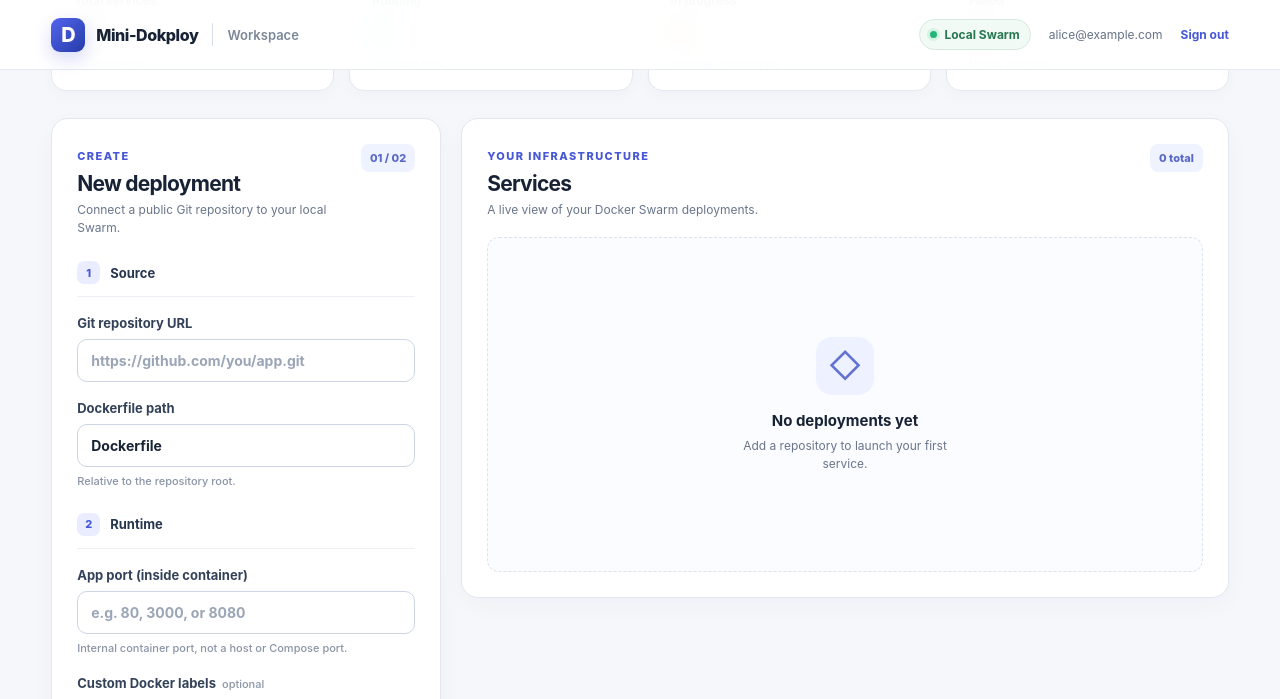
Scenario: Mini-Dokploy page › shows malformed labels without submitting a deployment
(page scrolled)
Type "https://github.com/example/app.git" into the field labelled "Git repository URL" at [246, 360], box [77,339,415,382]
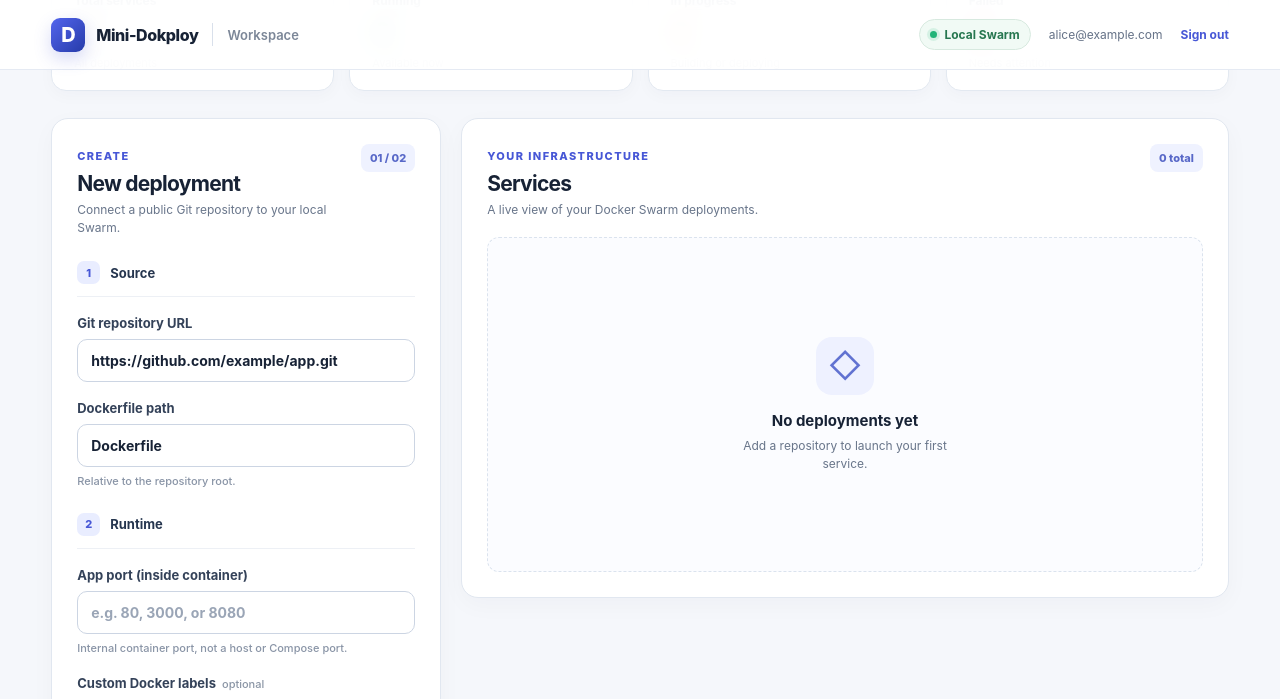
Type "80" into the field labelled "App port (inside container)" at [246, 612], box [77,591,415,634]
(page scrolled)
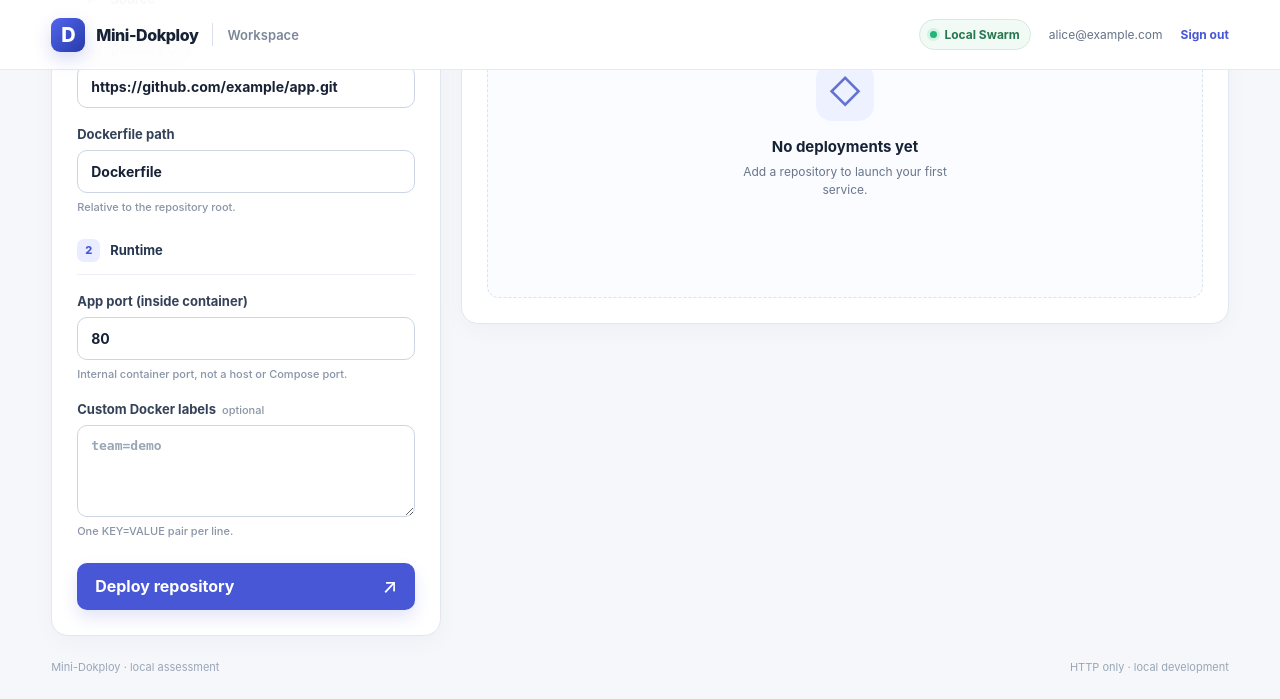
Type "not-a-pair" into the text box labelled "Custom Docker labels optional One KEY=VALUE pair per line." at [246, 471], box [77,425,415,517]
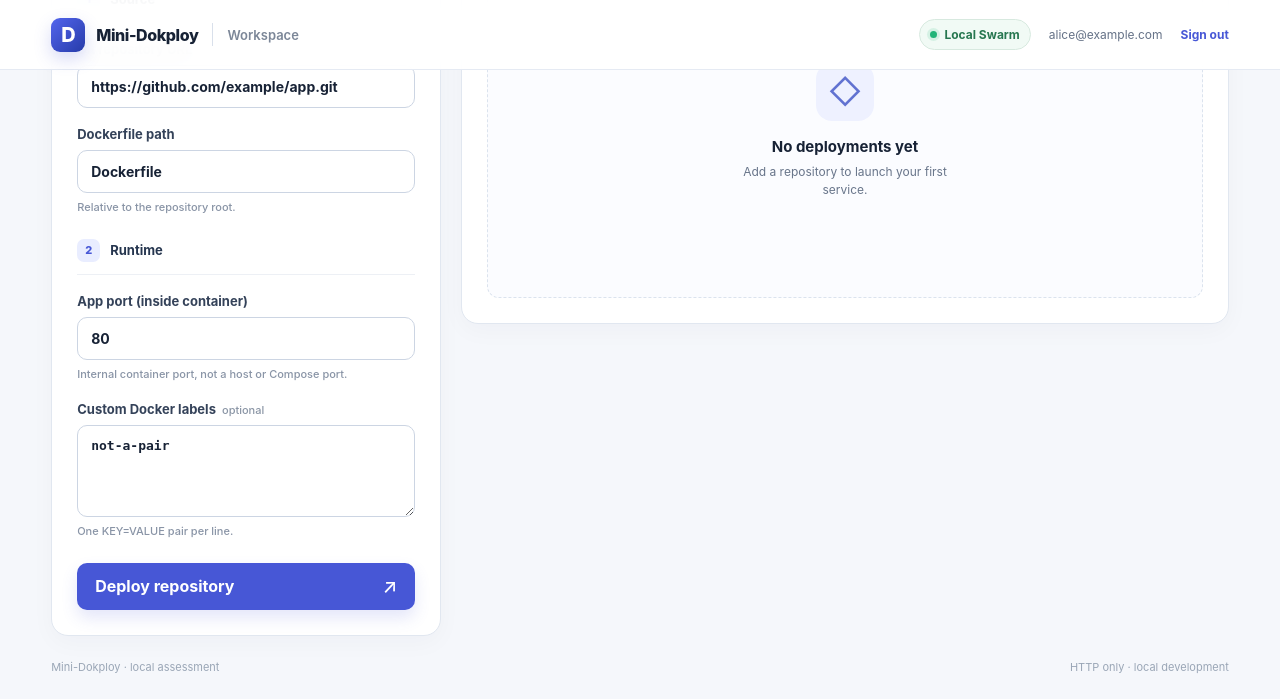
Click the button "Deploy repository ↗" at [165, 586], box [77,563,415,610]
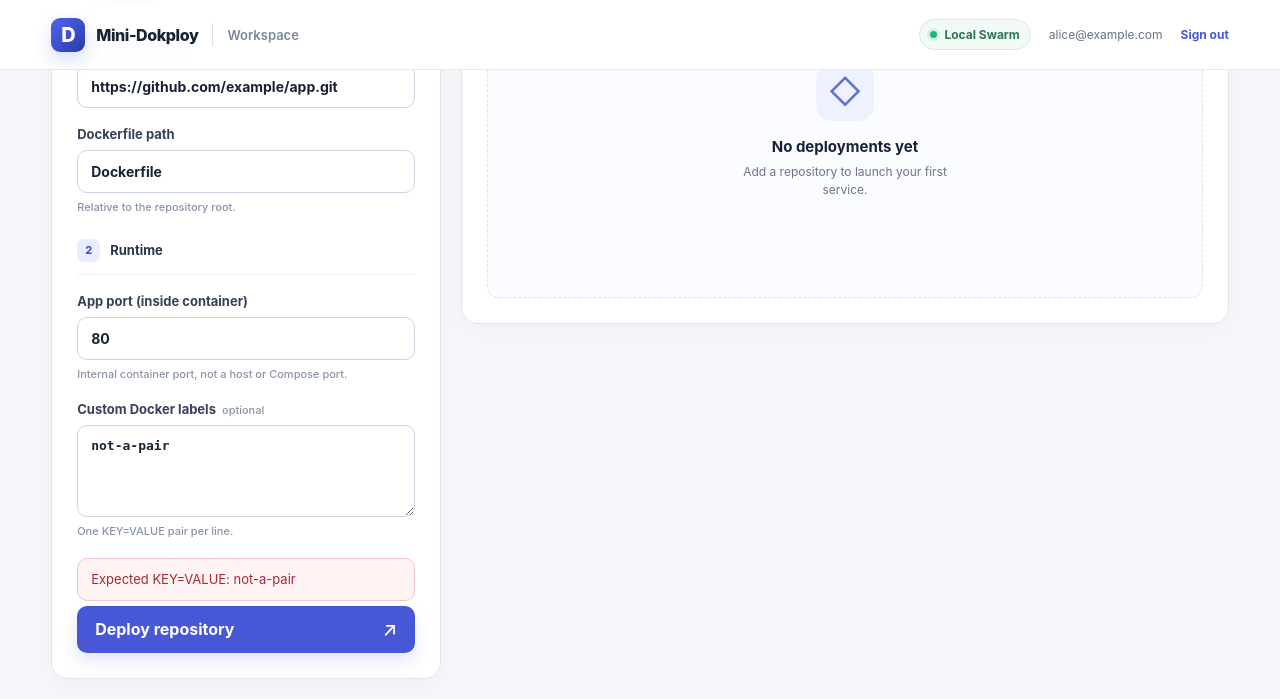
expect the message "Expected KEY=VALUE: not-a-pair" is shown: met, box [77,558,415,601]
